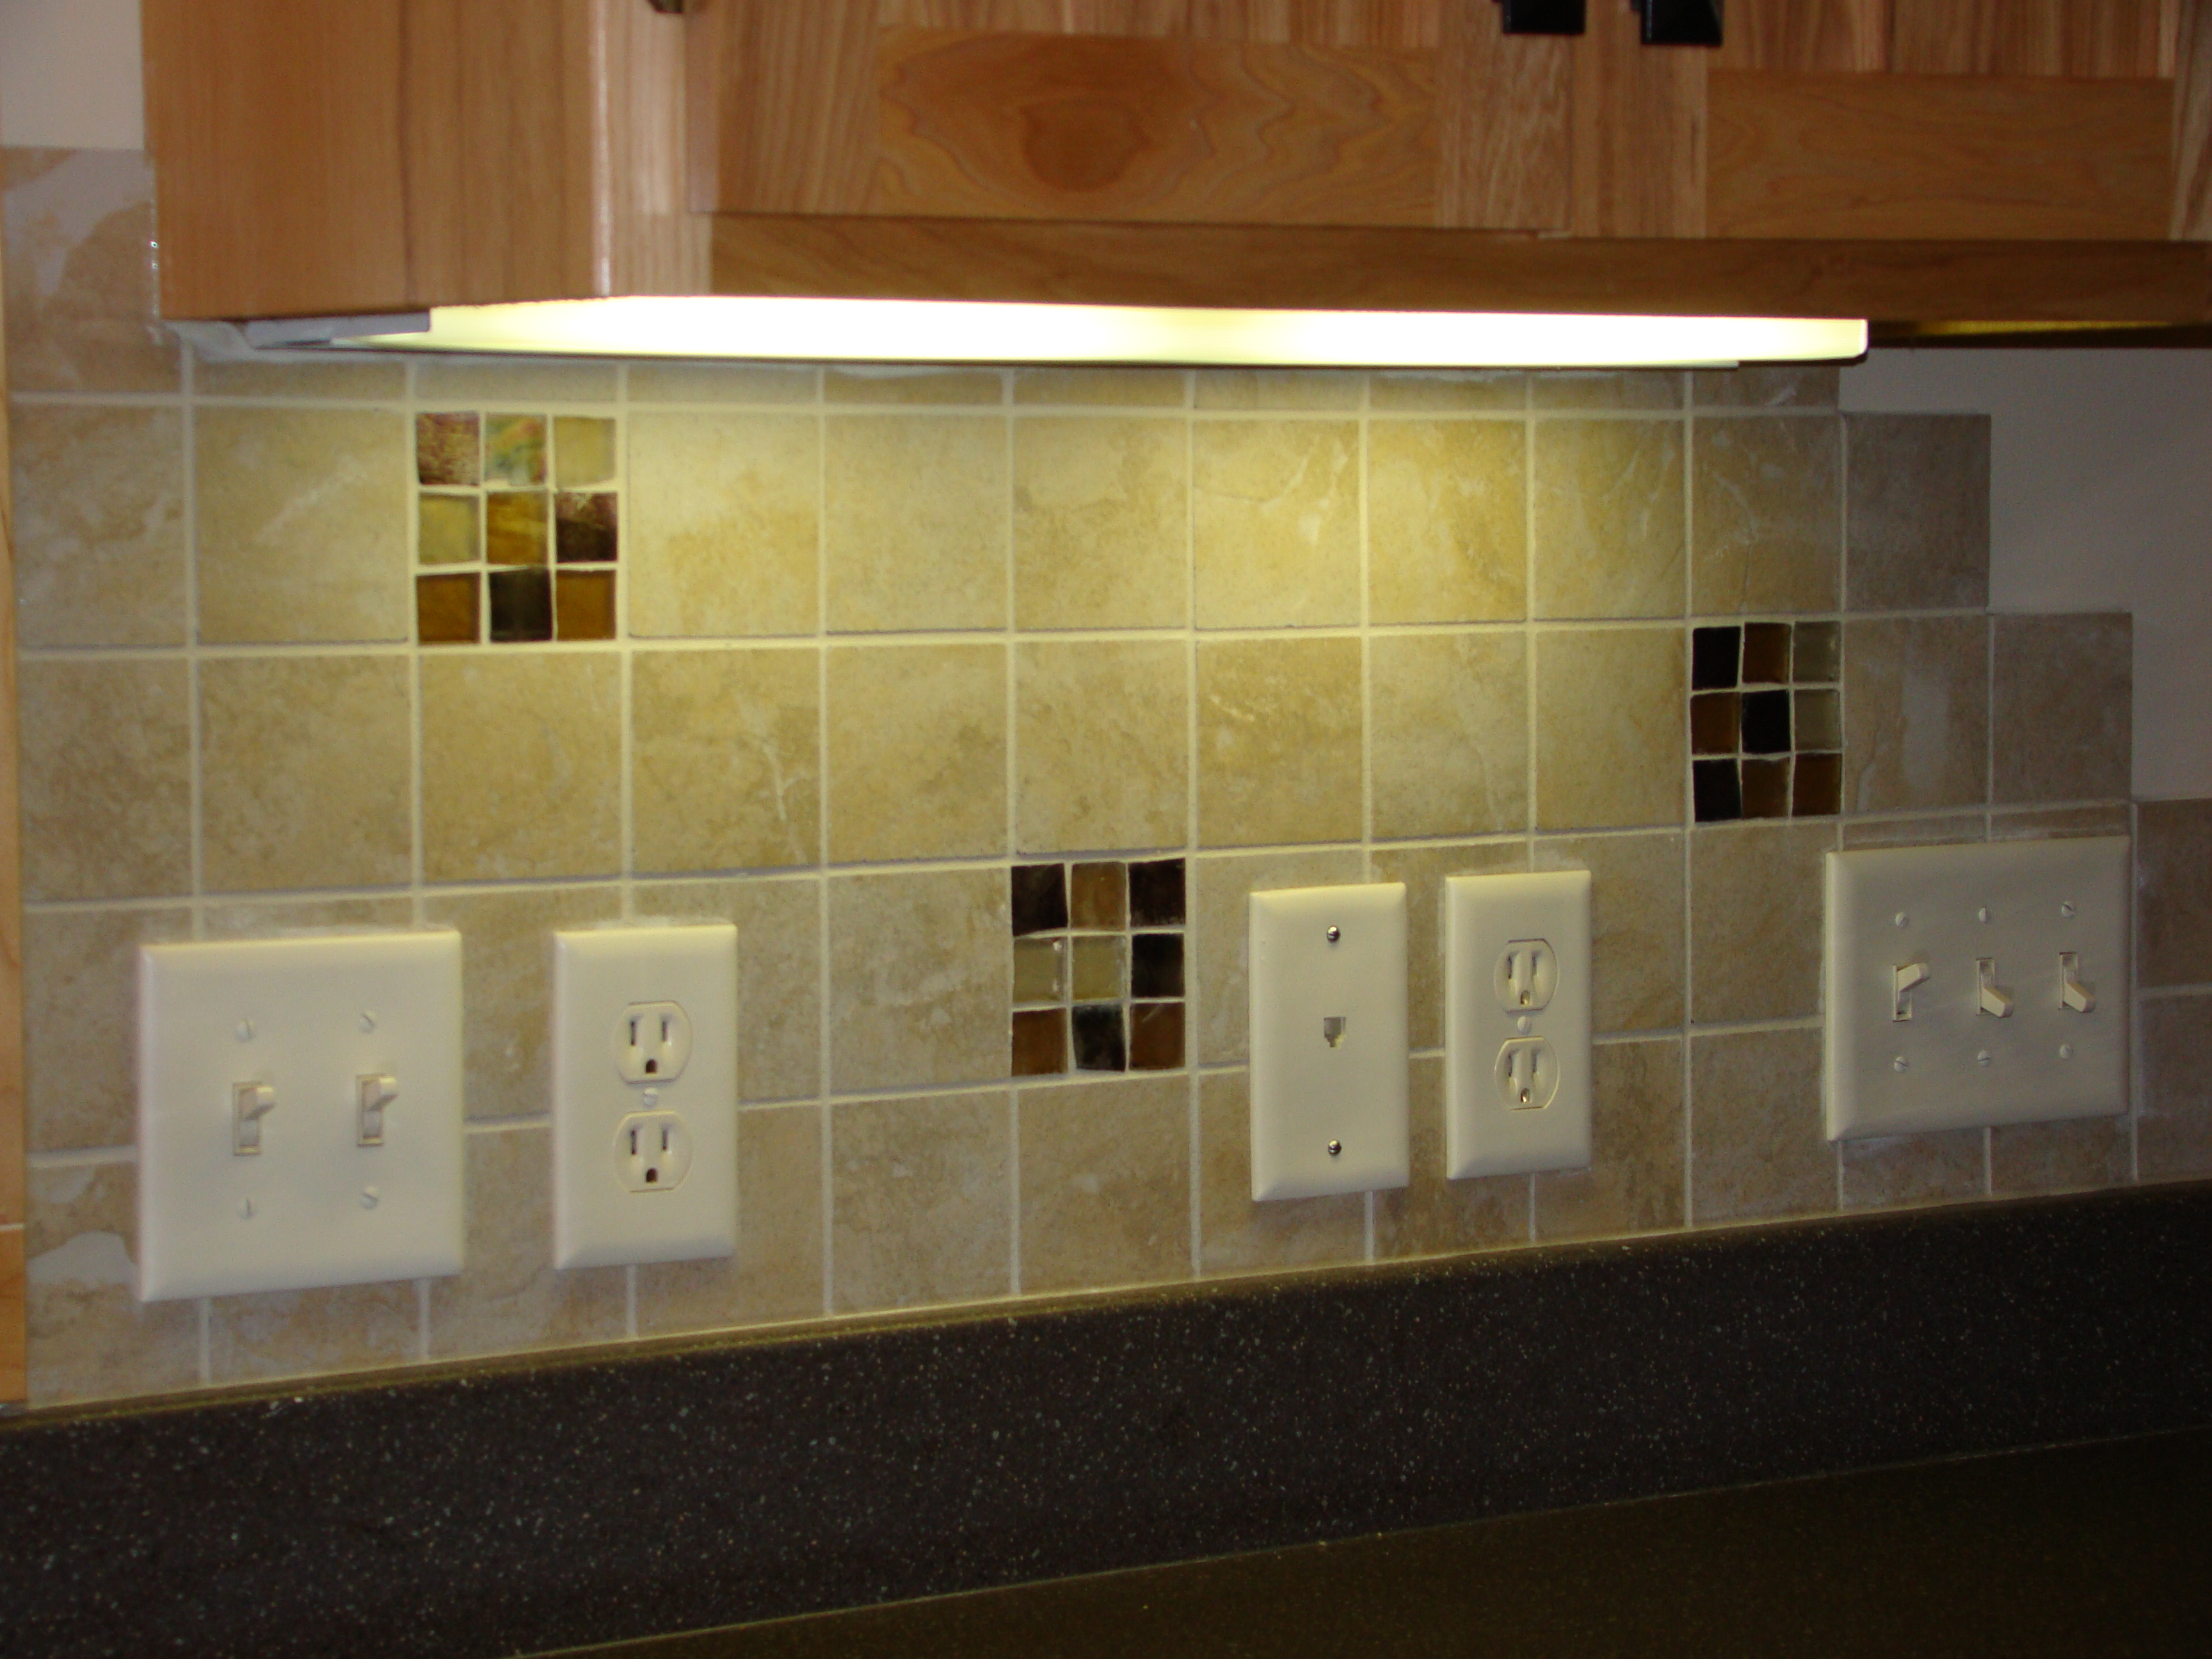outlet: (620, 1119, 676, 1192), (624, 1014, 678, 1082), (1500, 941, 1550, 1012), (1498, 1046, 1548, 1112)
